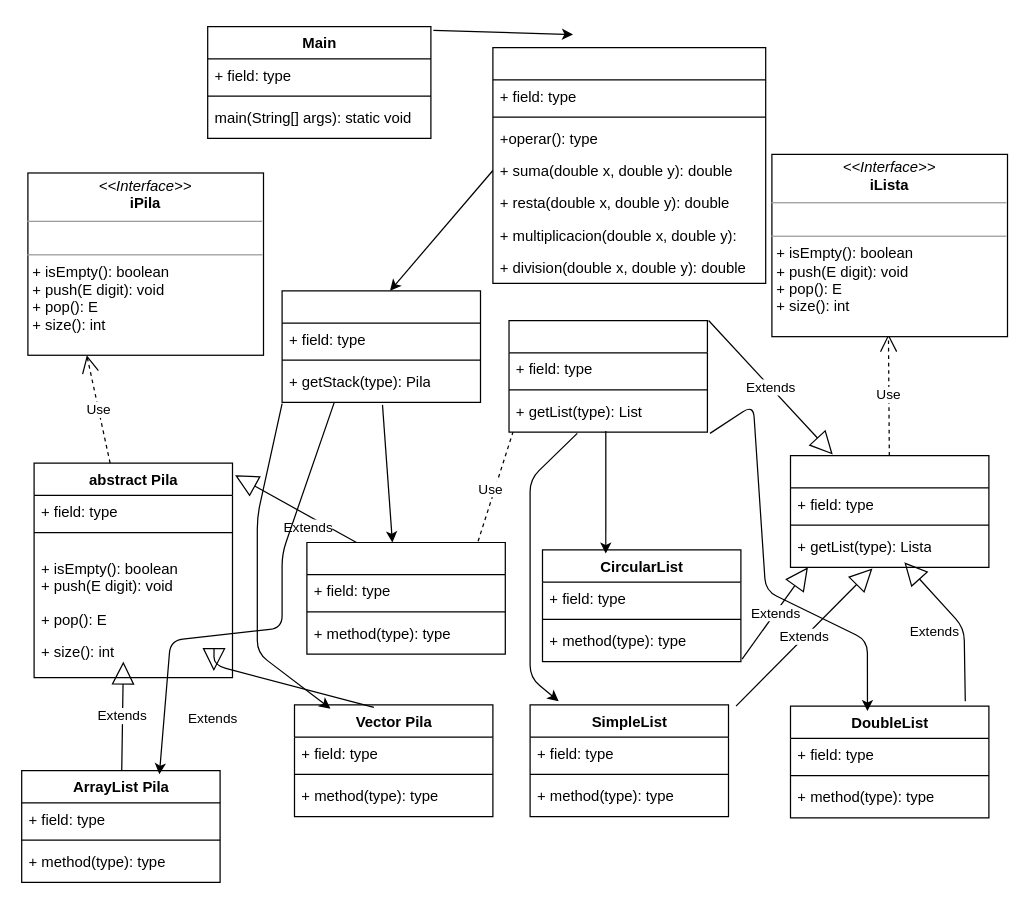
Image size: 1029x905. Some labels were removed from this diagram. The box of each missing label's shape, as (x1, y1, x2, y2) in pixels:
abstract List: (789, 454, 989, 567)
Calculadora: (492, 46, 766, 283)
Factory Lista: (508, 319, 707, 432)
Factory Pila: (281, 290, 480, 402)
Lista Pila: (306, 541, 505, 654)
